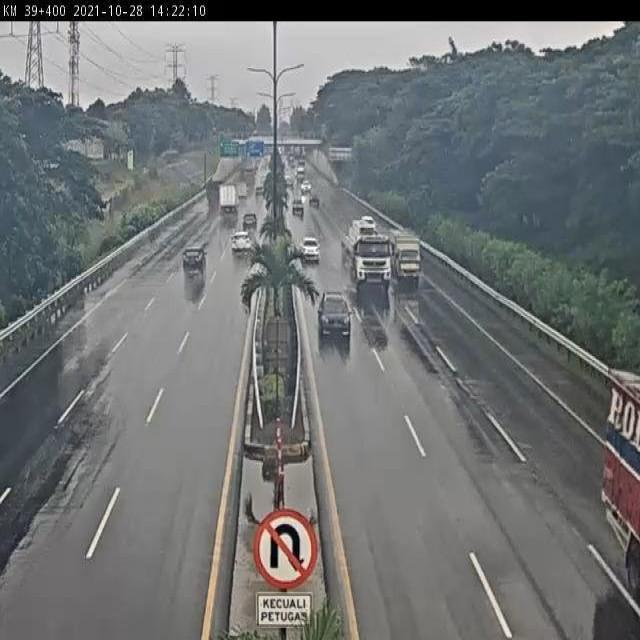car: (319, 285, 353, 340), (180, 242, 206, 278), (297, 232, 322, 263), (229, 228, 255, 257)
truck: (339, 216, 393, 293), (387, 223, 424, 287)
